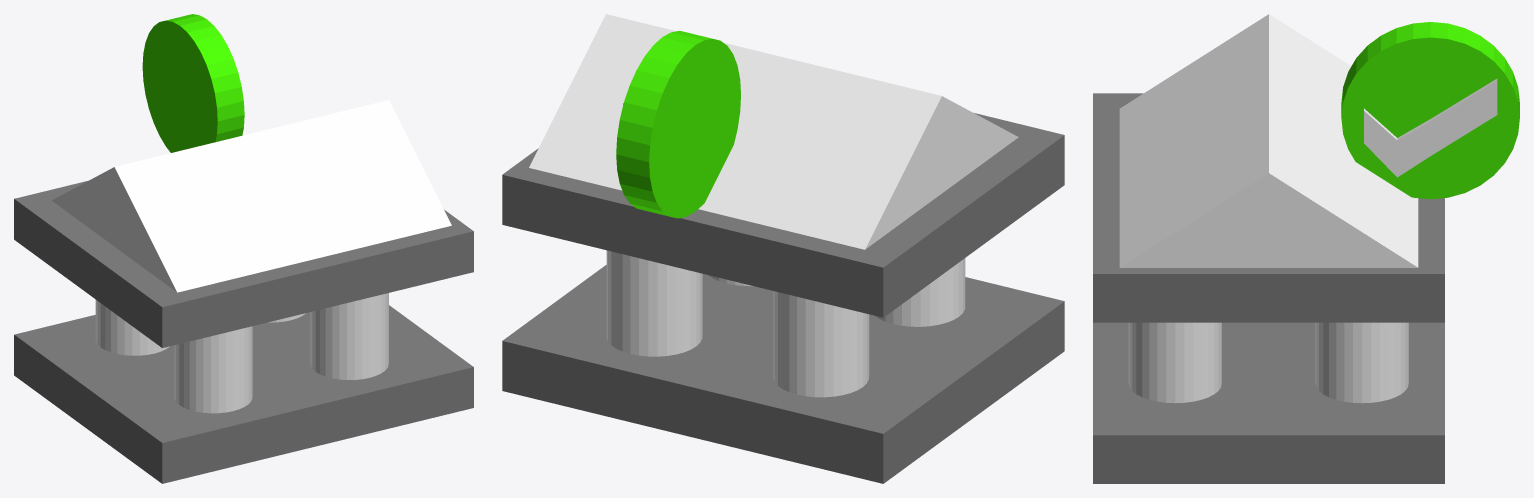
File: department.glb
The picture shows the model from 3 angles, left to right: view 1: azimuth 30°, elevation 25°; view 2: azimuth 150°, elevation 25°; view 3: azimuth 270°, elevation 25°; orthographic projection. The views are drawn at different scales.
Visible parts, largest first — view 1: Cube; view 2: Cube; view 3: Cube.
Boxes of the visible parts, bbox=[...] form: Cube: bbox=[14, 14, 473, 483]; Cube: bbox=[502, 14, 1064, 483]; Cube: bbox=[1093, 14, 1519, 483].
Size of the model in its own units: 3.24 by 3.13 by 3.24.
